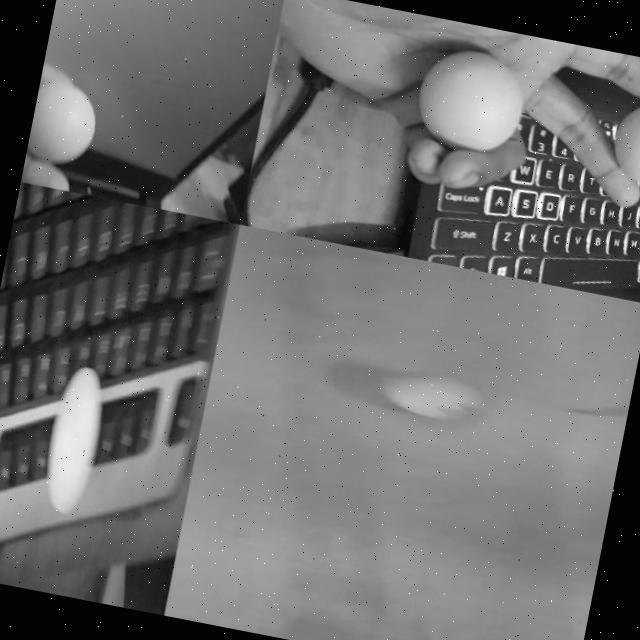ping-pong-ball: (410, 41, 530, 158), (40, 364, 112, 512), (25, 82, 104, 172), (382, 364, 489, 426), (612, 97, 640, 185)
